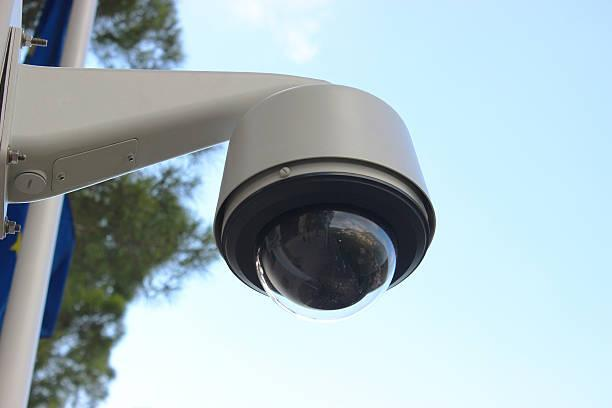camera: (171, 55, 475, 341)
